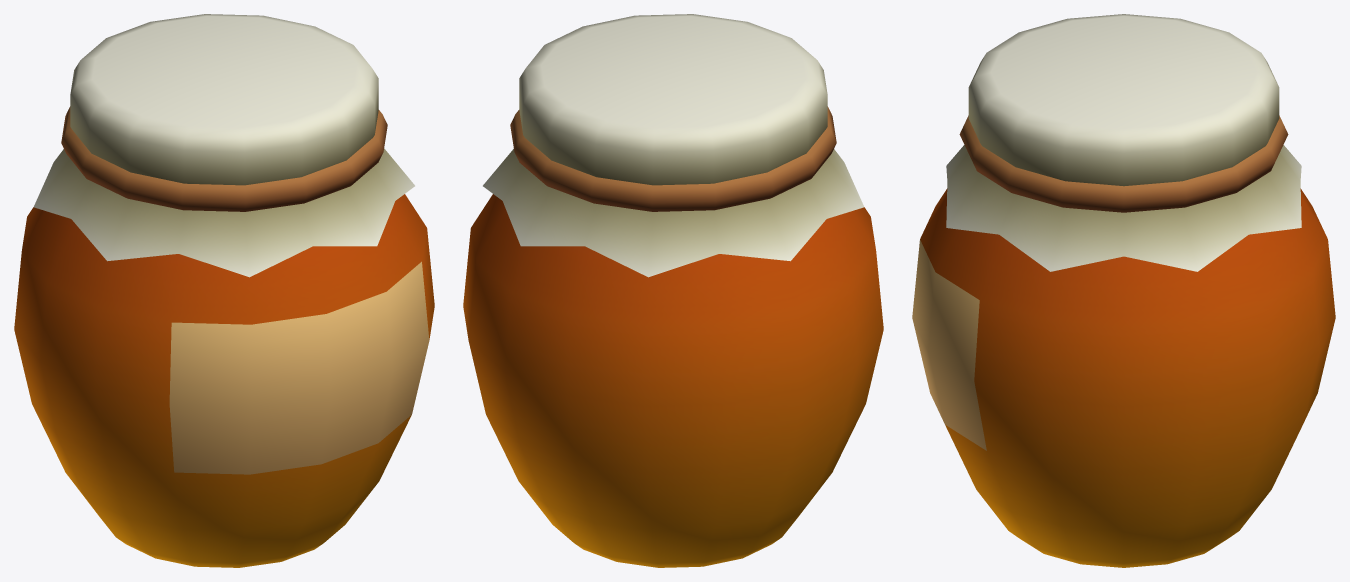
File: Honey_02.glb
3 renders of one model, left to right at view 1: azimuth 30°, elevation 25°; view 2: azimuth 150°, elevation 25°; view 3: azimuth 270°, elevation 25°, orthographic.
Parts seen in each view (by area): view 1: Honey_02; view 2: Honey_02; view 3: Honey_02.
Boxes of the visible parts, bbox=[...] form: Honey_02: bbox=[14, 14, 434, 567]; Honey_02: bbox=[463, 14, 883, 567]; Honey_02: bbox=[912, 14, 1335, 567].
Size of the model in its own units: 0.5169 by 0.6079 by 0.5169.
1 material, 1 textured.
